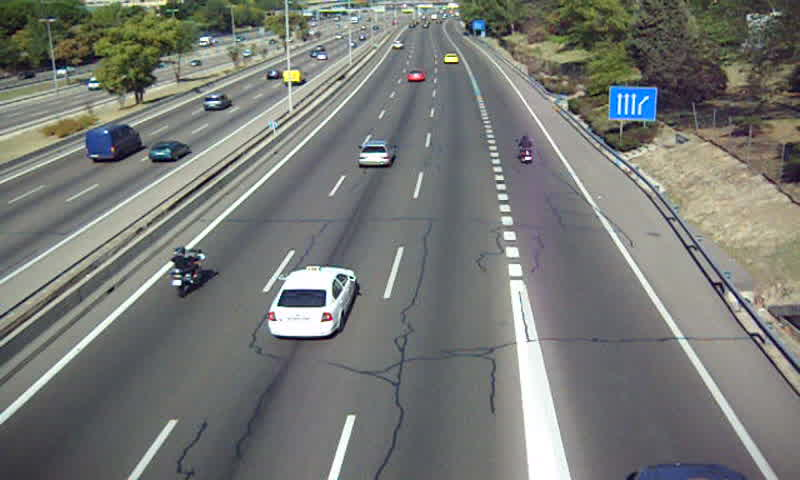car: (267, 266, 356, 339), (356, 142, 397, 168), (408, 68, 426, 84), (443, 53, 460, 64)
motorcycle: (168, 246, 207, 296), (517, 134, 534, 163)
